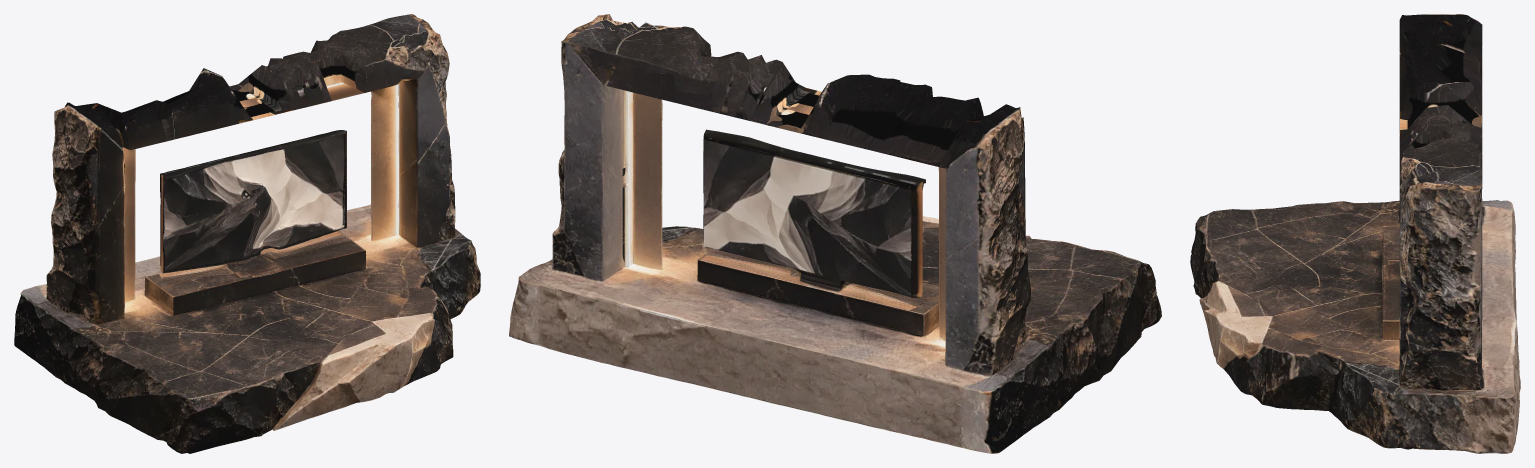
File: portfolio-mobile.glb
3 views of the same model, side by side, from view 1: azimuth 30°, elevation 25°; view 2: azimuth 150°, elevation 25°; view 3: azimuth 270°, elevation 25° (orthographic). The views are drawn at different scales.
Visible parts, largest first — view 1: Mesh0; view 2: Mesh0; view 3: Mesh0.
Boxes of the visible parts, box(x1,y1,x2,y2) form: Mesh0: box(14, 14, 480, 453); Mesh0: box(509, 14, 1161, 453); Mesh0: box(1190, 14, 1520, 453).
Bounding box in the file's own units: 1.9 × 1.08 × 1.29.
Materials: 1 (1 with a texture image).
